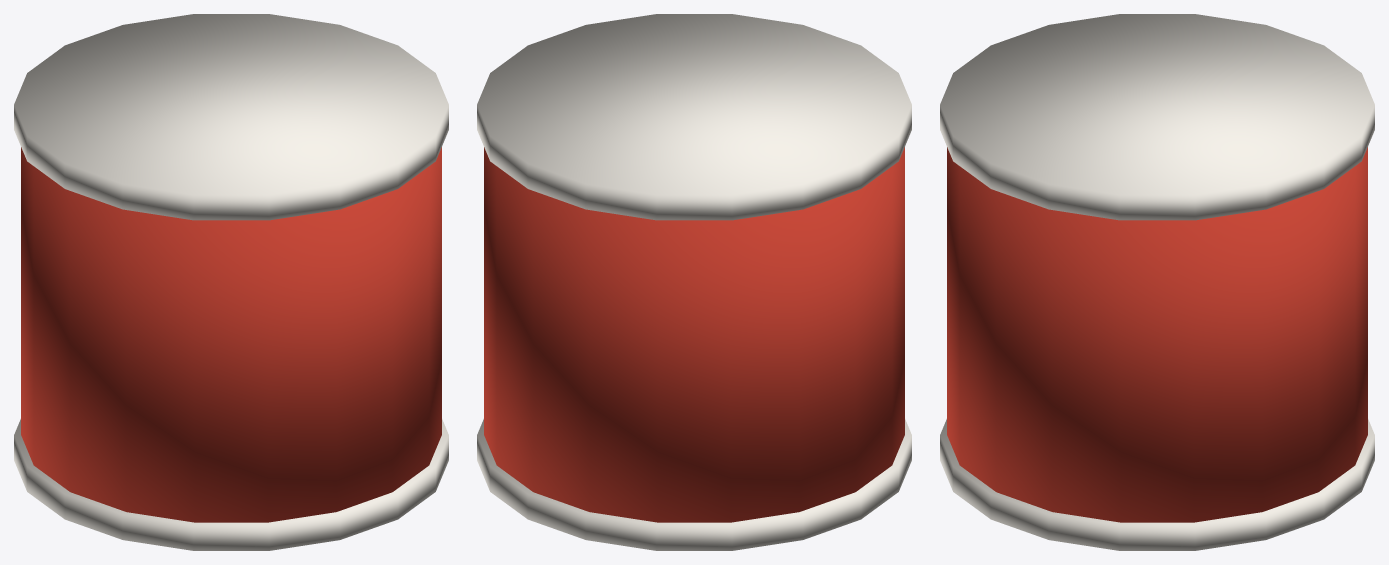
File: drum.glb
3 views of the same model, side by side, from view 1: azimuth 30°, elevation 25°; view 2: azimuth 150°, elevation 25°; view 3: azimuth 270°, elevation 25° (orthographic).
Parts seen in each view (by area): view 1: drum; view 2: drum; view 3: drum.
Boxes of the visible parts, box(x1,y1,x2,y2) form: drum: box(14, 14, 448, 550); drum: box(477, 14, 911, 550); drum: box(940, 14, 1374, 550).
Bounding box in the file's own units: 0.6106 × 0.56 × 0.62.
